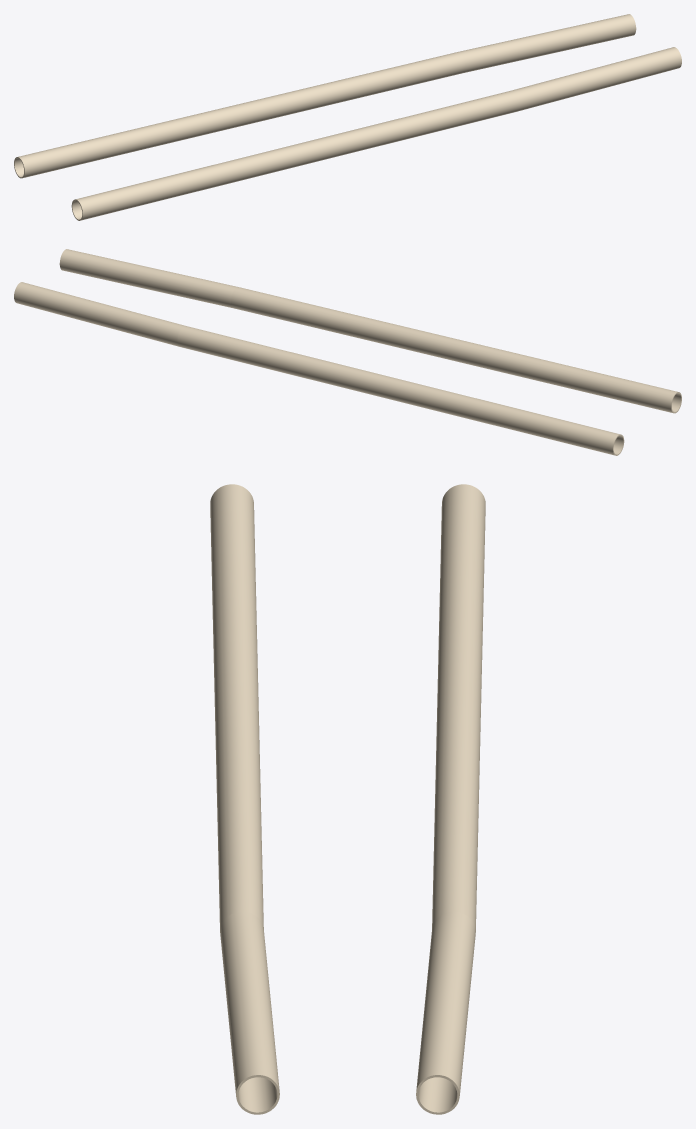
Rendered from BODY__INTERNALS__4_ ID wireway tubes.glb.
The picture shows the model from 3 angles, top to bottom: view 1: azimuth 30°, elevation 25°; view 2: azimuth 150°, elevation 25°; view 3: azimuth 270°, elevation 25°; orthographic projection. The views are drawn at different scales.
Visible parts, largest first — view 1: 4" ID wireway tubes; view 2: 4" ID wireway tubes; view 3: 4" ID wireway tubes.
Part boxes in pixels (x1,y1,x2,y2): 4" ID wireway tubes: (14,14,681,220); 4" ID wireway tubes: (14,249,681,455); 4" ID wireway tubes: (210,484,485,1114).
Size of the model in its own units: 3.65 by 0.1144 by 0.7181.
